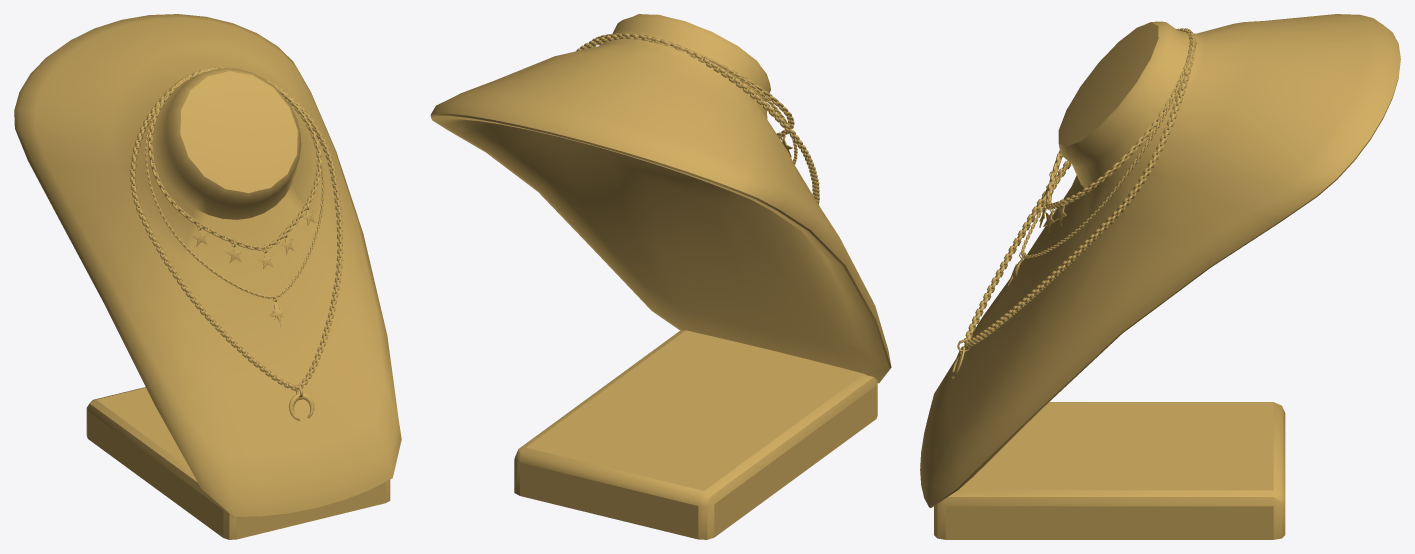
The model's file is Necklace_18.fbx.
3 views of the same model, side by side, from view 1: azimuth 30°, elevation 25°; view 2: azimuth 150°, elevation 25°; view 3: azimuth 270°, elevation 25° (orthographic). The views are drawn at different scales.
Parts seen in each view (by area): view 1: SM_Stand_Necklace_19, SM_Chains; view 2: SM_Stand_Necklace_19, SM_Chains; view 3: SM_Stand_Necklace_19, SM_Chains.
Boxes of the visible parts, x1,y1,x2,y2 form: SM_Stand_Necklace_19: [14, 14, 401, 539]; SM_Chains: [130, 67, 342, 420]; SM_Stand_Necklace_19: [430, 14, 891, 539]; SM_Chains: [576, 33, 819, 204]; SM_Stand_Necklace_19: [920, 14, 1400, 539]; SM_Chains: [952, 28, 1196, 378].
Bounding box in the file's own units: 22.51 × 29.29 × 27.78.
